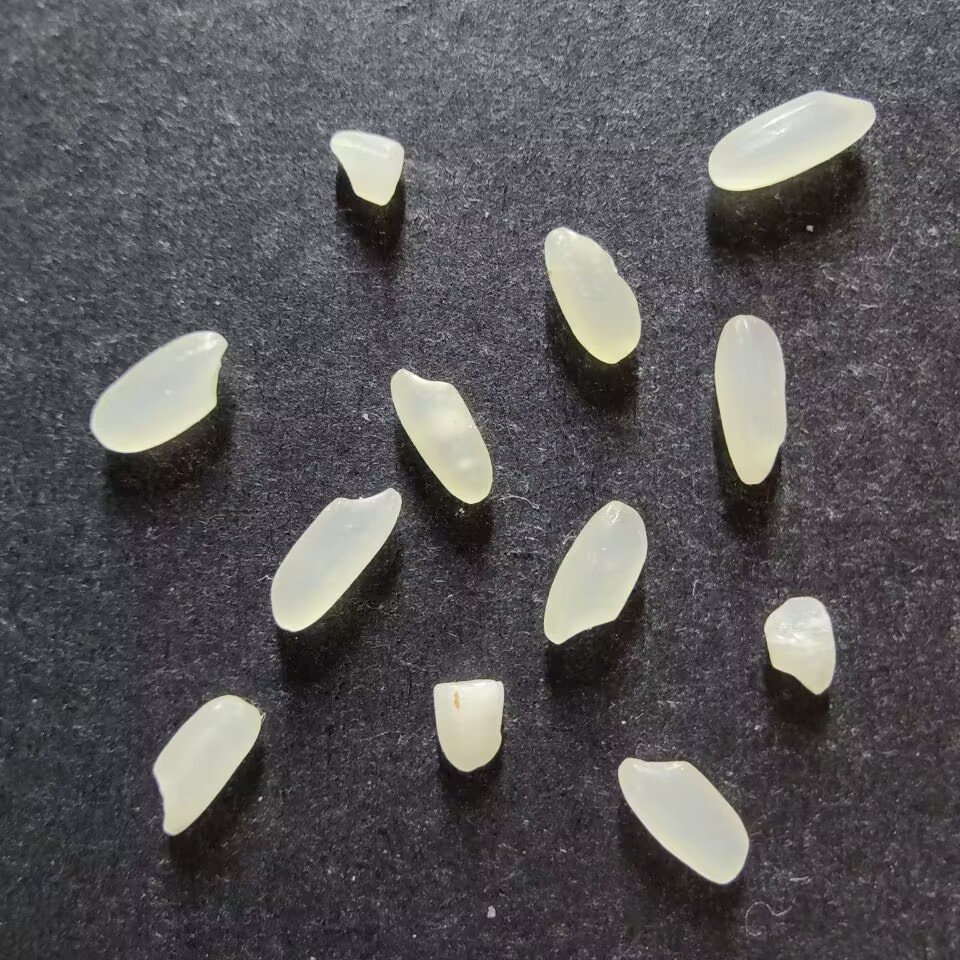broken: (762, 595, 836, 696), (432, 677, 505, 772), (328, 129, 407, 206)
rice: (268, 486, 401, 632), (706, 89, 876, 191), (88, 330, 227, 453), (616, 758, 749, 884), (151, 694, 262, 835), (542, 499, 648, 645), (389, 368, 492, 504), (543, 226, 641, 364), (713, 314, 788, 485)
